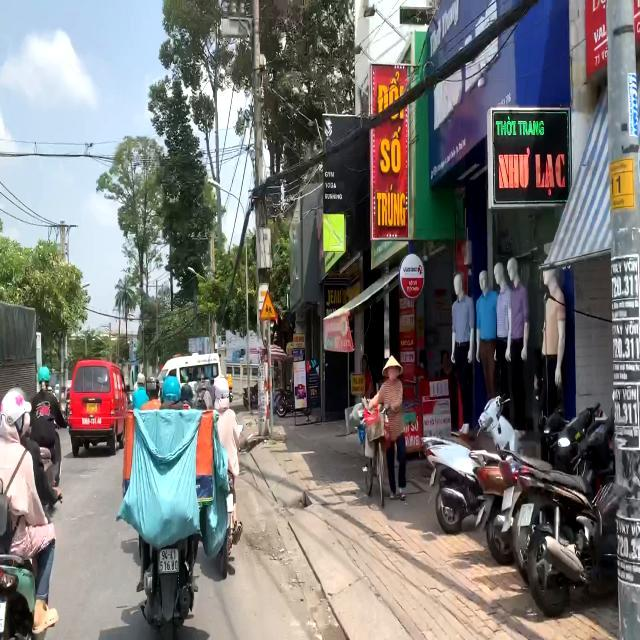Tre em: (258, 289, 278, 321)
